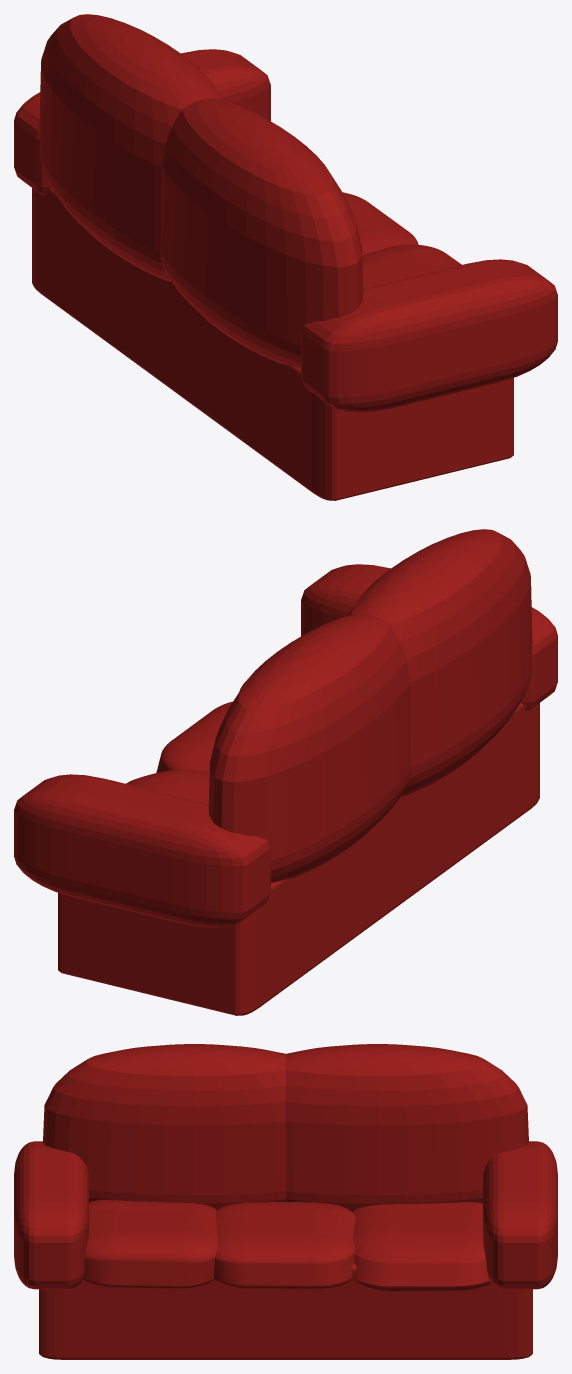
Rendered from trinkets_and_baubles.fbx.
The picture shows the model from 3 angles, top to bottom: view 1: azimuth 30°, elevation 25°; view 2: azimuth 150°, elevation 25°; view 3: azimuth 270°, elevation 25°; orthographic projection. The views are drawn at different scales.
Parts seen in each view (by area): view 1: Cube, Sphere, Sphere.001, Cube.004, Cube.005, Cube.002, Cube.001; view 2: Cube, Sphere.001, Sphere, Cube.005, Cube.004, Cube.001, Cube.003; view 3: Cube, Sphere.001, Sphere, Cube.001, Cube.003, Cube.002, Cube.005, Cube.004.
Boxes of the visible parts, box(x1,y1,x2,y2) form: Cube: box(32, 188, 513, 500); Sphere: box(160, 98, 363, 367); Sphere.001: box(39, 14, 223, 281); Cube.004: box(301, 259, 557, 412); Cube.005: box(14, 49, 270, 195); Cube.002: box(362, 244, 461, 288); Cube.001: box(343, 192, 418, 255); Cube: box(58, 703, 539, 1015); Sphere.001: box(208, 613, 411, 882); Sphere: box(348, 529, 532, 796); Cube.005: box(14, 774, 270, 927); Cube.004: box(301, 564, 557, 710); Cube.001: box(156, 701, 232, 773); Cube.003: box(126, 770, 209, 803); Cube: box(39, 1263, 532, 1359); Sphere.001: box(286, 1044, 528, 1211); Sphere: box(43, 1044, 285, 1209); Cube.001: box(214, 1202, 355, 1289); Cube.003: box(352, 1202, 490, 1291); Cube.002: box(82, 1200, 217, 1288); Cube.005: box(483, 1141, 557, 1289); Cube.004: box(14, 1141, 88, 1289).
Size of the model in its own units: 488 by 557 by 1111.
